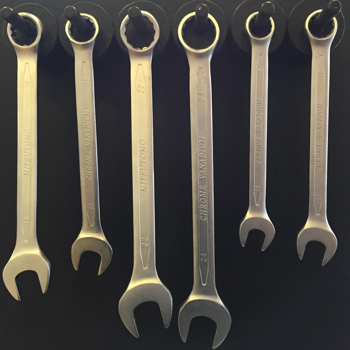bottom: (116, 278, 174, 338), (176, 291, 234, 349), (2, 248, 53, 303), (294, 219, 337, 267), (68, 234, 115, 275), (237, 210, 276, 252)
top: (175, 10, 221, 57), (118, 9, 161, 52), (3, 9, 45, 53), (301, 4, 339, 44), (63, 10, 100, 46), (243, 8, 277, 44)
